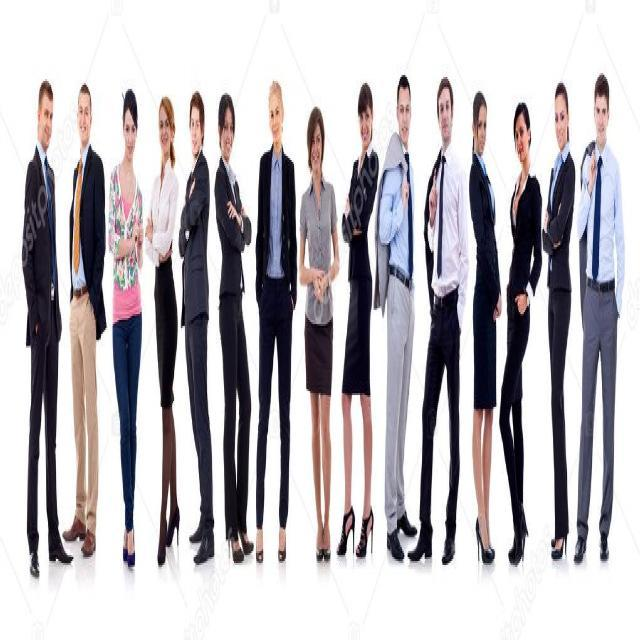No_Goggles: (38, 106, 58, 122), (513, 124, 531, 141), (394, 102, 413, 116), (435, 101, 452, 116), (218, 121, 236, 135), (120, 121, 138, 135), (76, 104, 93, 118), (157, 119, 174, 133), (591, 103, 609, 116), (306, 134, 324, 147), (266, 105, 284, 118), (474, 118, 490, 132), (552, 114, 569, 127), (359, 110, 375, 123), (187, 119, 204, 131)
